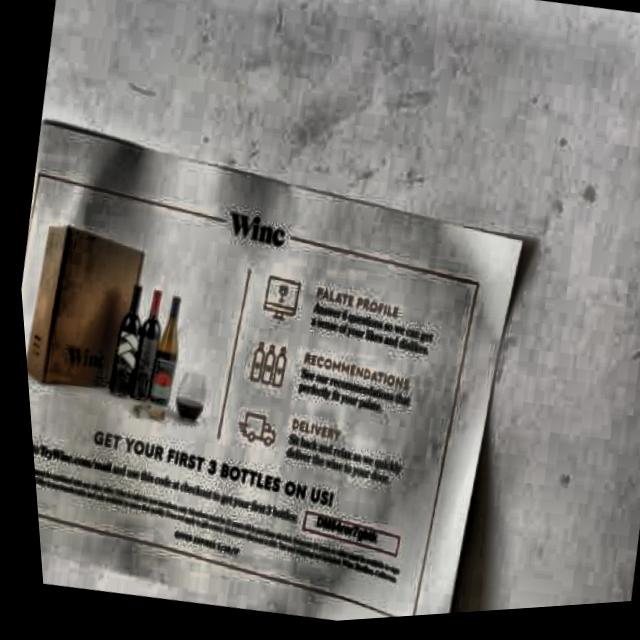Paper: (6, 76, 572, 640)
